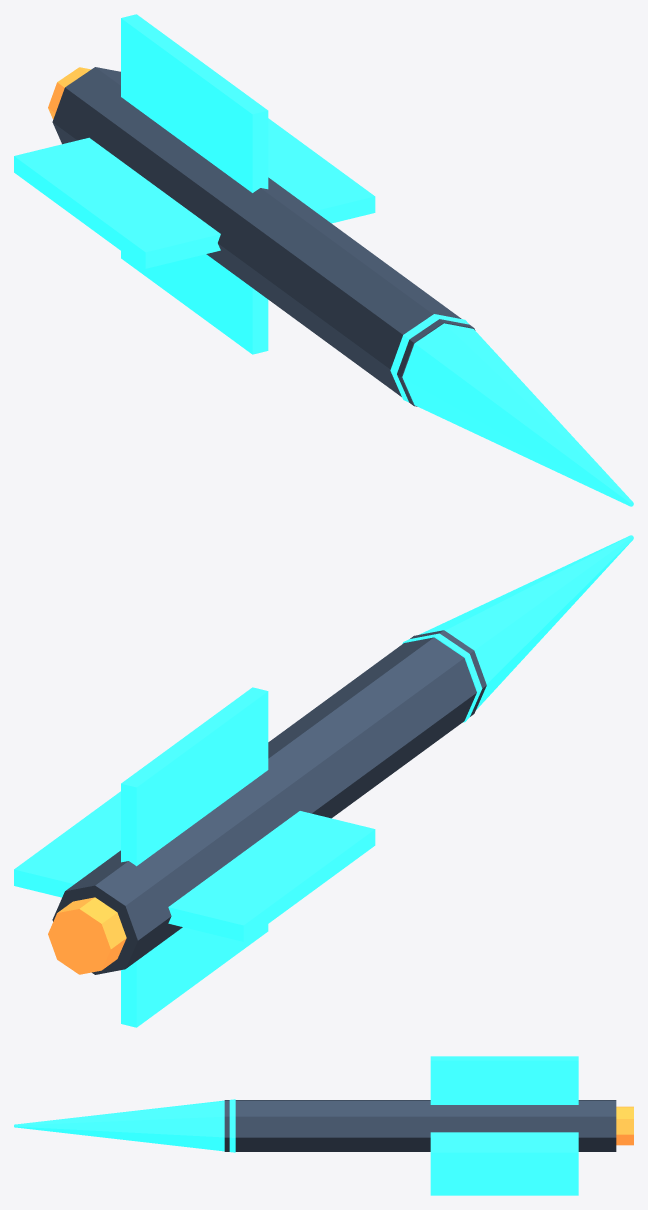
File: guided_missile.glb
The picture shows the model from 3 angles, top to bottom: view 1: azimuth 30°, elevation 25°; view 2: azimuth 150°, elevation 25°; view 3: azimuth 270°, elevation 25°; orthographic projection. The views are drawn at different scales.
Visible parts, largest first — view 1: guided_missile; view 2: guided_missile; view 3: guided_missile.
Part boxes in pixels (bbox=[...]): guided_missile: bbox=[14, 14, 633, 506]; guided_missile: bbox=[14, 535, 633, 1027]; guided_missile: bbox=[14, 1056, 633, 1195].
Bounding box in the file's own units: 1.2 × 1.2 × 5.
